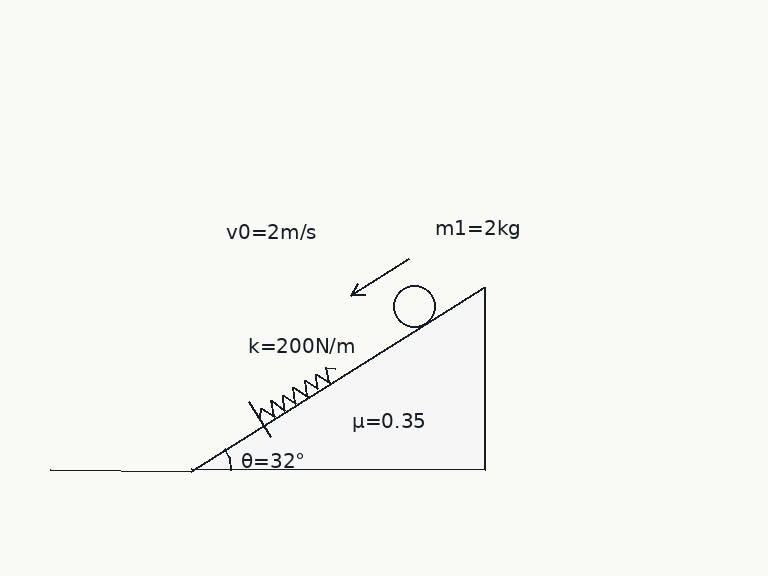ball: (391, 283, 437, 329)
ramp: (189, 285, 486, 472)
spring: (257, 365, 337, 419)
